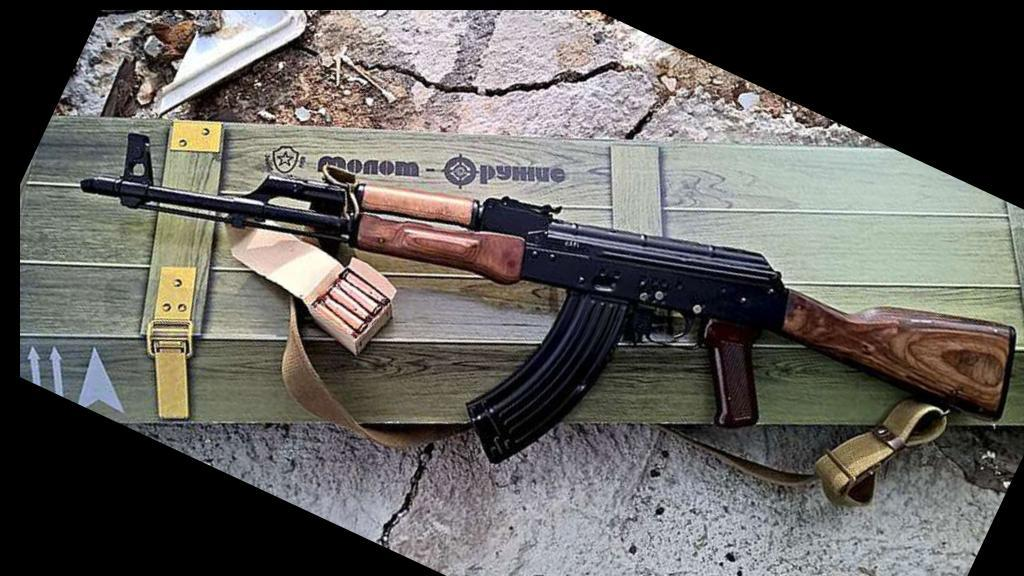larga: (79, 131, 1018, 467)
